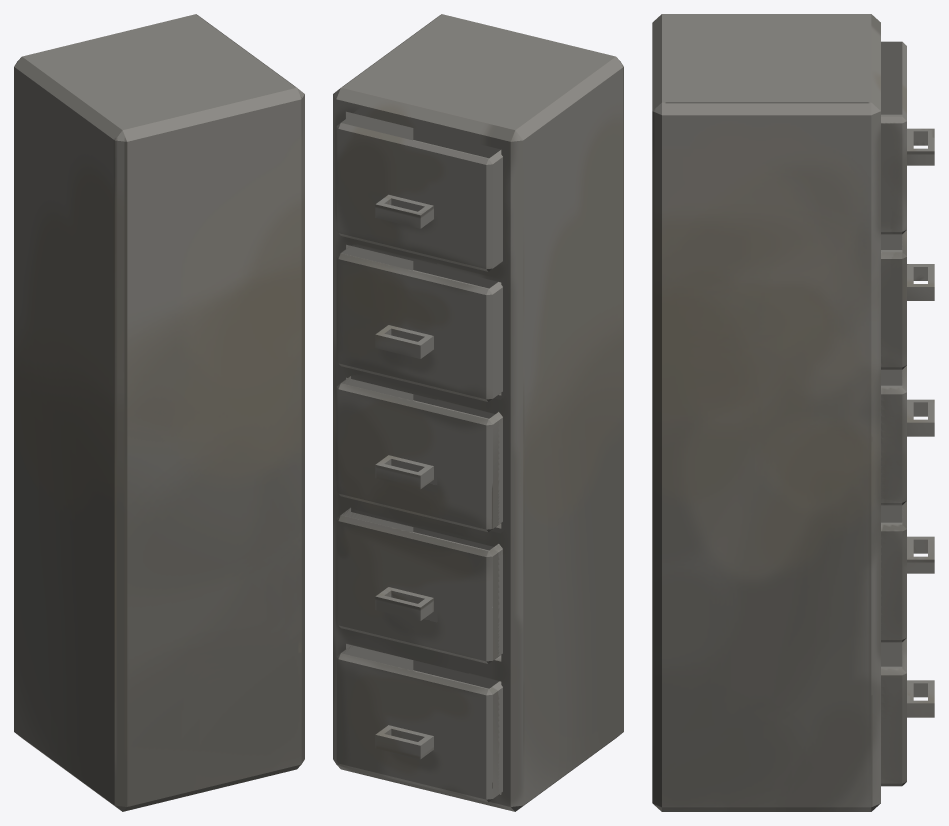
Rendered from Cabinet.fbx.
The picture shows the model from 3 angles, left to right: view 1: azimuth 30°, elevation 25°; view 2: azimuth 150°, elevation 25°; view 3: azimuth 270°, elevation 25°; orthographic projection. The views are drawn at different scales.
Visible parts, largest first — view 1: Filing_Drawer.004; view 2: Filing_Drawer.004; view 3: Filing_Drawer.004.
Part boxes in pixels (bbox=[...]): Filing_Drawer.004: bbox=[14, 14, 304, 811]; Filing_Drawer.004: bbox=[333, 14, 623, 811]; Filing_Drawer.004: bbox=[652, 14, 934, 811].
Bounding box in the file's own units: 200 × 685 × 247.
